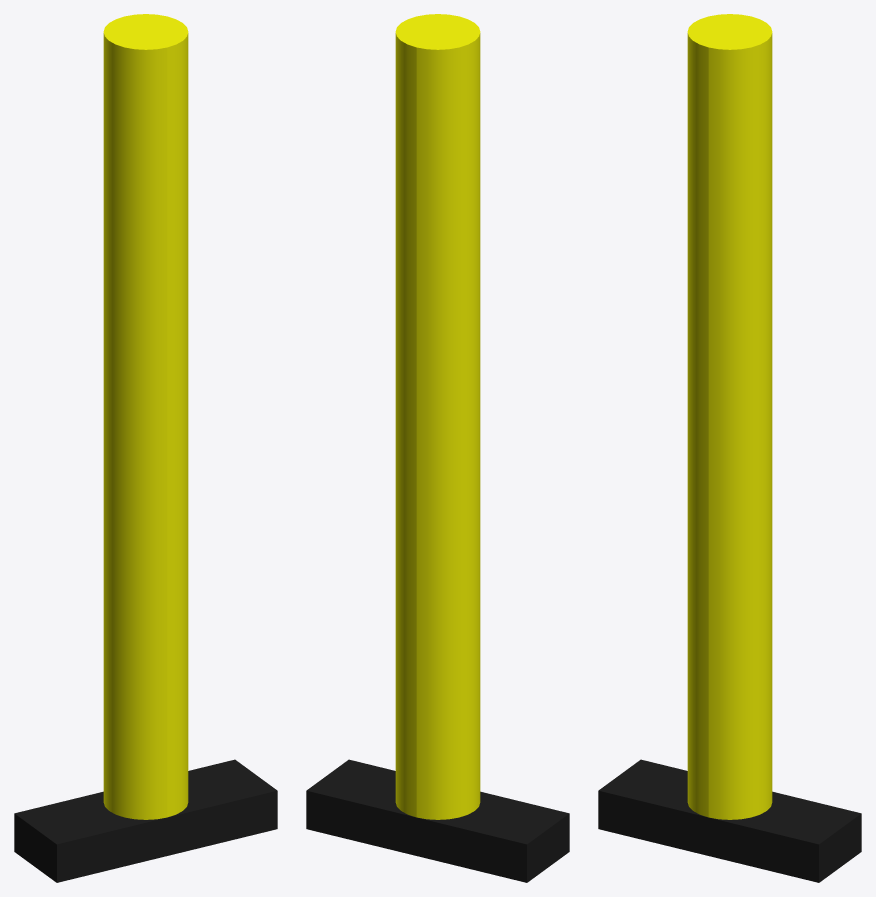
3 renders of one model, left to right at view 1: azimuth 30°, elevation 25°; view 2: azimuth 150°, elevation 25°; view 3: azimuth 330°, elevation 25°, orthographic.
Visible parts, largest first — view 1: SketchUp (×2); view 2: SketchUp (×2); view 3: SketchUp (×2).
Part boxes in pixels (x1,y1,x2,y2): SketchUp (×2): (14,14,277,882); SketchUp (×2): (306,14,569,882); SketchUp (×2): (598,14,861,882).
Size of the model in its own units: 0.3 by 0.1 by 1.05.
